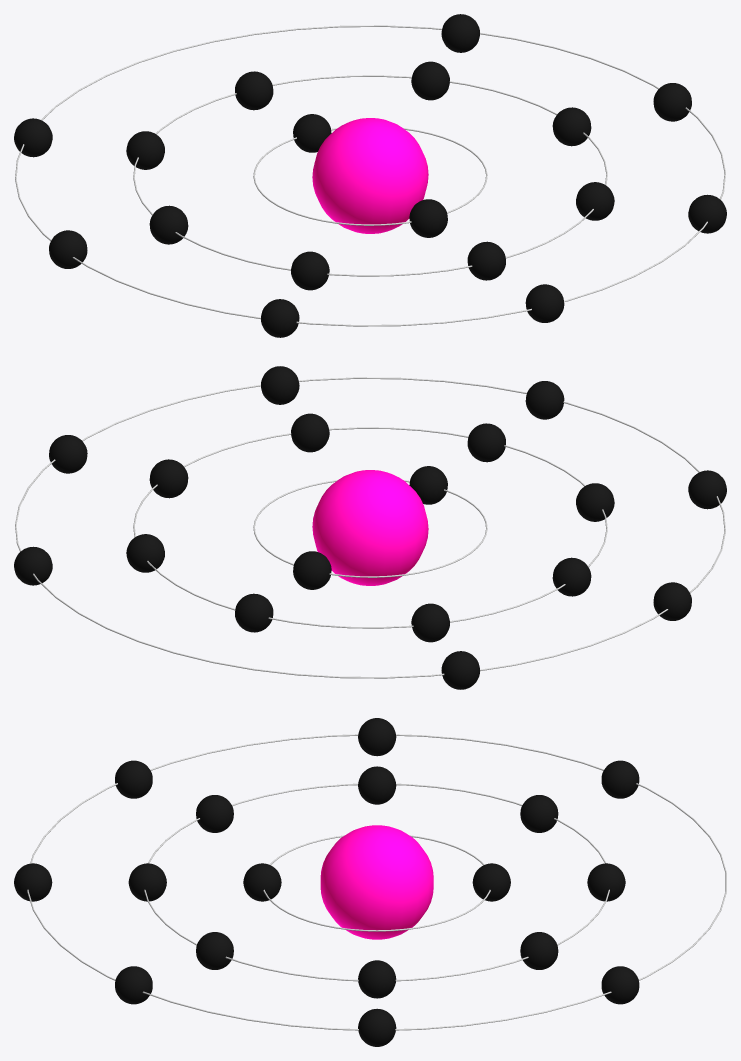
Rendered from Group 7 - Chlorine Cl.glb.
3 renders of one model, top to bottom at view 1: azimuth 30°, elevation 25°; view 2: azimuth 150°, elevation 25°; view 3: azimuth 270°, elevation 25°, orthographic.
Visible parts, largest first — view 1: Nucleus, ring3, ring2, Electron1, Electron3, Electron12, Electron9, Electron10, Electron13, Electron16, Electron7, Electron18 (+9 smaller); view 2: Nucleus, ring3, ring2, Electron2, Electron5, Electron15, Electron18, Electron4, Electron11, Electron14, Electron7, Electron16 (+9 smaller); view 3: Nucleus, ring3, ring2, Electron14, Electron8, Electron13, Electron7, Electron12, Electron9, Electron10, Electron17, Electron16 (+9 smaller).
Part boxes in pixels (left/top/right/bottom): Nucleus: left=312, top=118, right=428, bottom=233; ring3: left=15, top=25, right=725, bottom=326; ring2: left=133, top=75, right=607, bottom=276; Electron1: left=411, top=61, right=449, bottom=100; Electron3: left=291, top=251, right=329, bottom=290; Electron12: left=441, top=14, right=479, bottom=52; Electron9: left=409, top=199, right=447, bottom=237; Electron10: left=235, top=71, right=273, bottom=110; Electron13: left=261, top=299, right=299, bottom=337; Electron16: left=653, top=83, right=691, bottom=121; Electron7: left=552, top=107, right=591, bottom=146; Electron18: left=525, top=284, right=564, bottom=322; Nucleus: left=312, top=470, right=428, bottom=585; ring3: left=15, top=377, right=725, bottom=678; ring2: left=133, top=427, right=607, bottom=628; Electron2: left=291, top=413, right=329, bottom=452; Electron5: left=411, top=603, right=449, bottom=642; Electron15: left=261, top=366, right=299, bottom=404; Electron18: left=525, top=381, right=564, bottom=419; Electron4: left=293, top=551, right=331, bottom=589; Electron11: left=467, top=423, right=505, bottom=462; Electron14: left=441, top=651, right=480, bottom=689; Electron7: left=149, top=459, right=188, bottom=498; Electron16: left=49, top=435, right=87, bottom=473; Nucleus: left=320, top=825, right=433, bottom=939; ring3: left=27, top=734, right=726, bottom=1030; ring2: left=144, top=783, right=609, bottom=981; Electron14: left=601, top=760, right=639, bottom=798; Electron8: left=358, top=766, right=396, bottom=804; Electron13: left=115, top=760, right=152, bottom=798; Electron7: left=358, top=960, right=396, bottom=998; Electron12: left=601, top=966, right=639, bottom=1004; Electron9: left=243, top=863, right=281, bottom=901; Electron10: left=587, top=863, right=625, bottom=901; Electron17: left=358, top=718, right=396, bottom=756; Electron16: left=358, top=1008, right=396, bottom=1046.
Bounding box in the file's own units: 0.19 × 0.03 × 0.1865.
